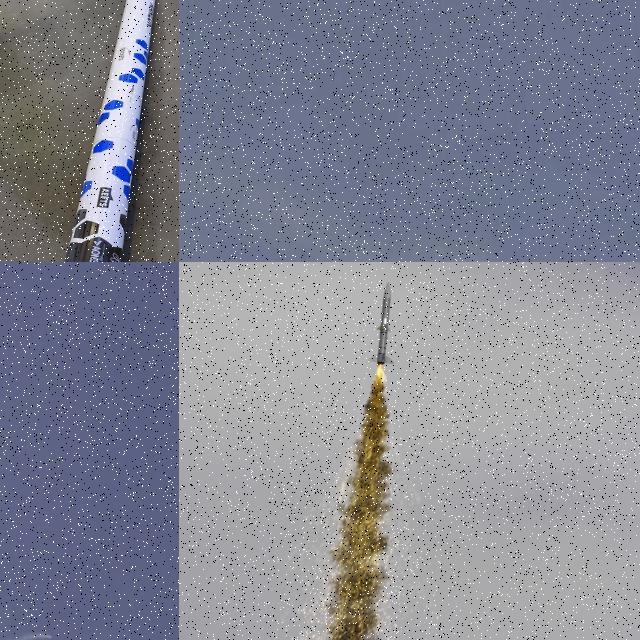Rocket: (64, 0, 156, 262), (367, 281, 395, 367), (332, 72, 336, 81), (51, 636, 53, 639)
